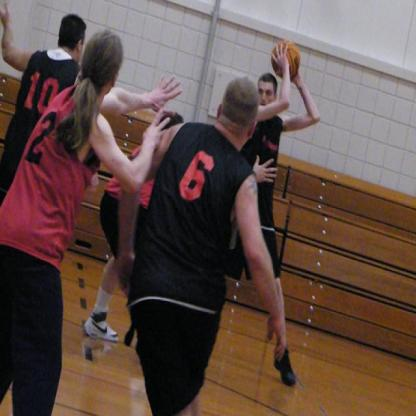basketball: (272, 38, 299, 79)
